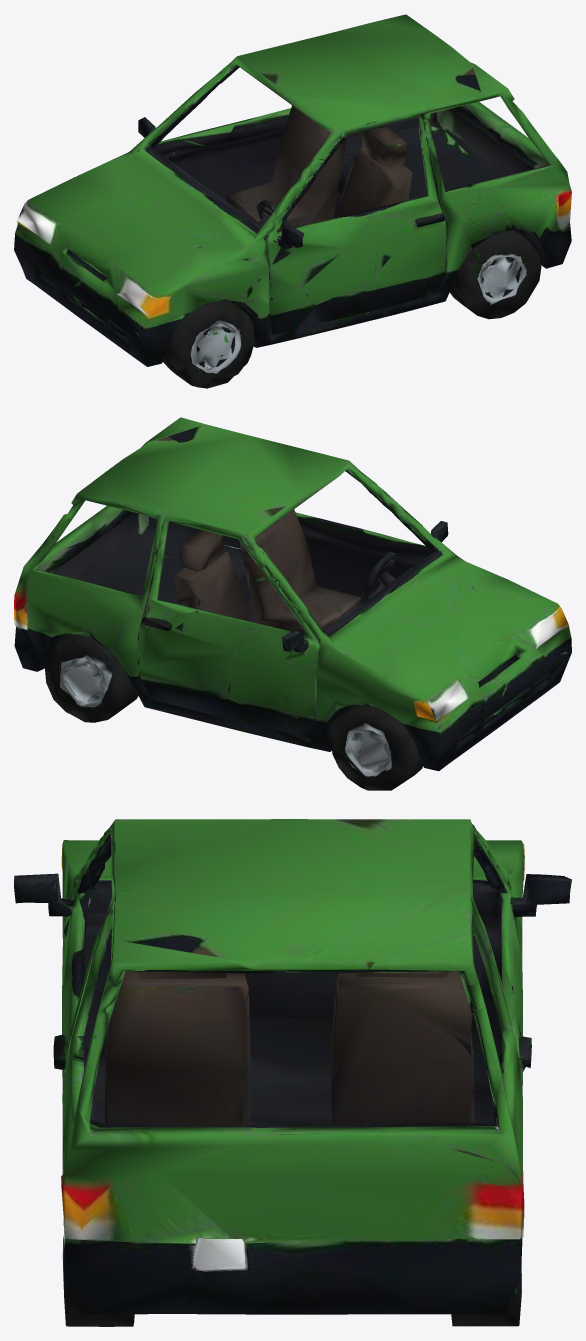
The model's file is car1.opt.glb.
3 views of the same model, one above another, from view 1: azimuth 30°, elevation 25°; view 2: azimuth 150°, elevation 25°; view 3: azimuth 270°, elevation 25° (orthographic). The views are drawn at different scales.
Visible parts, largest first — view 1: Mesh_0; view 2: Mesh_0; view 3: Mesh_0.
Boxes of the visible parts, x1,y1,x2,y2 form: Mesh_0: [14, 14, 571, 388]; Mesh_0: [14, 417, 571, 790]; Mesh_0: [14, 819, 571, 1326].
Size of the model in its own units: 1.9 by 0.9116 by 1.23.
Materials: 1 (1 with a texture image).
